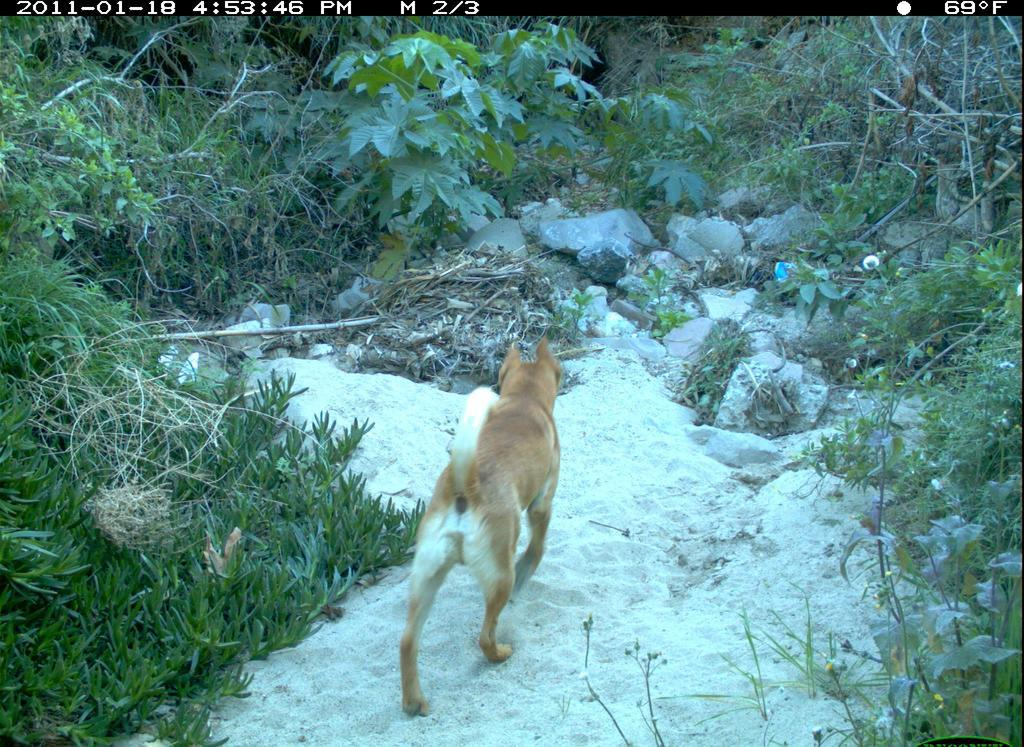dog: (387, 318, 569, 729)
